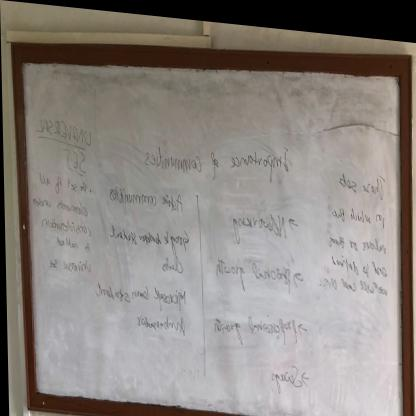Handwritten text: (138, 115, 291, 192), (104, 212, 195, 276), (211, 297, 297, 348), (210, 248, 293, 298), (93, 272, 187, 310), (227, 192, 286, 247), (106, 178, 185, 215), (331, 152, 390, 193), (34, 108, 92, 148), (325, 187, 388, 223), (313, 266, 388, 294), (321, 220, 388, 249), (132, 303, 185, 337), (266, 347, 301, 394), (33, 169, 91, 195), (28, 191, 89, 215), (326, 245, 389, 268), (43, 249, 91, 279), (36, 212, 94, 234), (63, 143, 86, 176), (51, 233, 92, 250)
Whiteboard: (20, 56, 405, 416)
